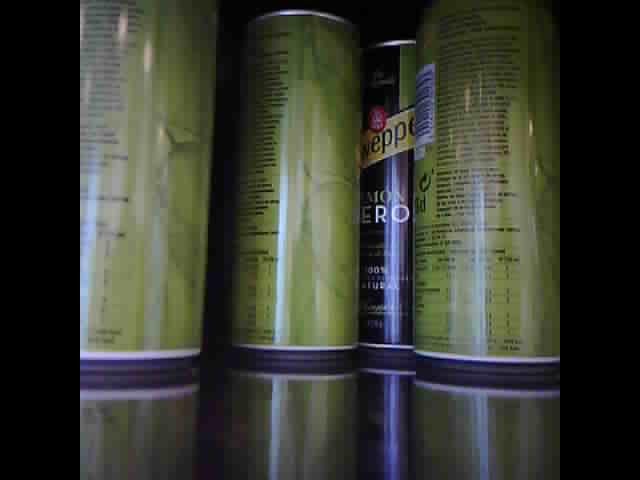schweppes: (410, 4, 562, 367), (78, 1, 218, 373), (229, 7, 361, 361), (357, 31, 417, 352)
